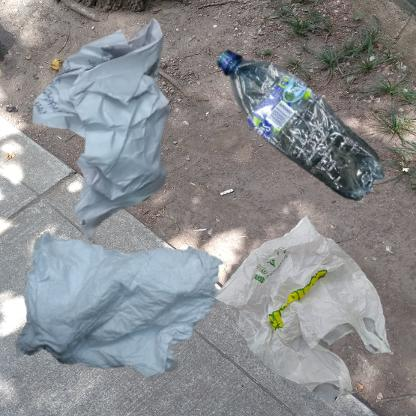bolsa: (213, 213, 394, 406)
botella: (213, 10, 416, 284)
papel: (10, 10, 242, 269), (10, 213, 243, 406)
